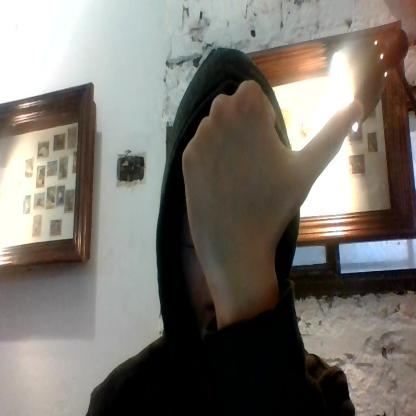left: (178, 76, 364, 251)
